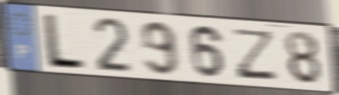2: (91, 16, 134, 74)
6: (189, 24, 225, 79)
8: (283, 30, 323, 86)
9: (139, 19, 179, 77)
L: (43, 12, 88, 72)
Z: (233, 27, 278, 82)
